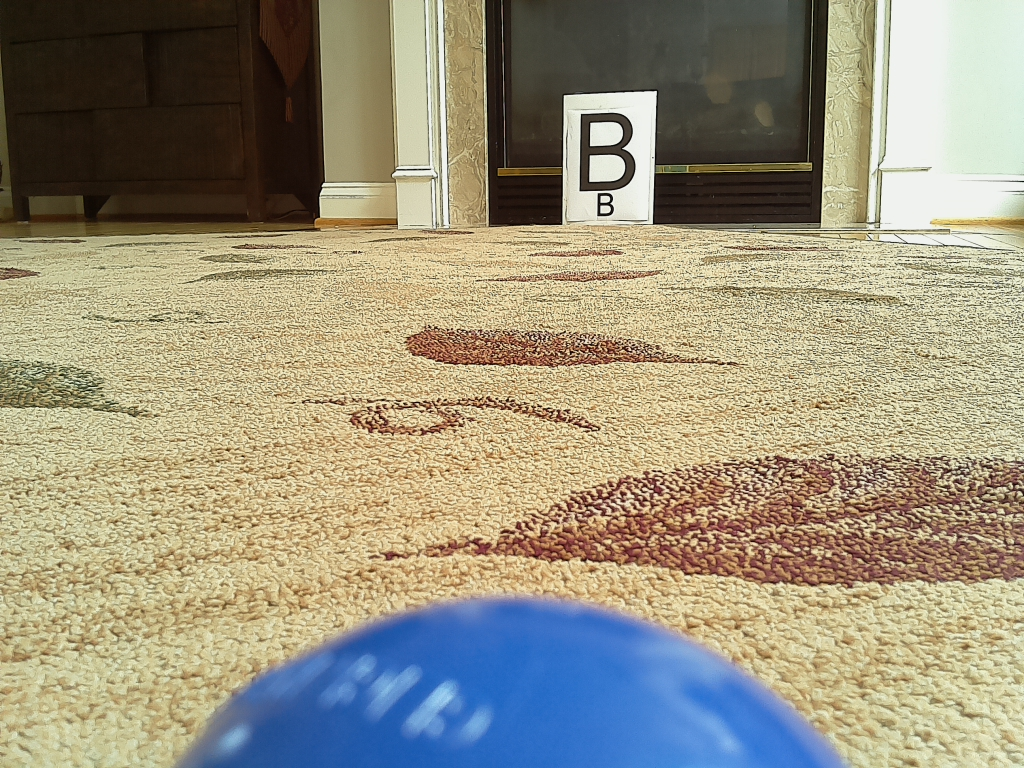letter: (580, 114, 636, 193)
